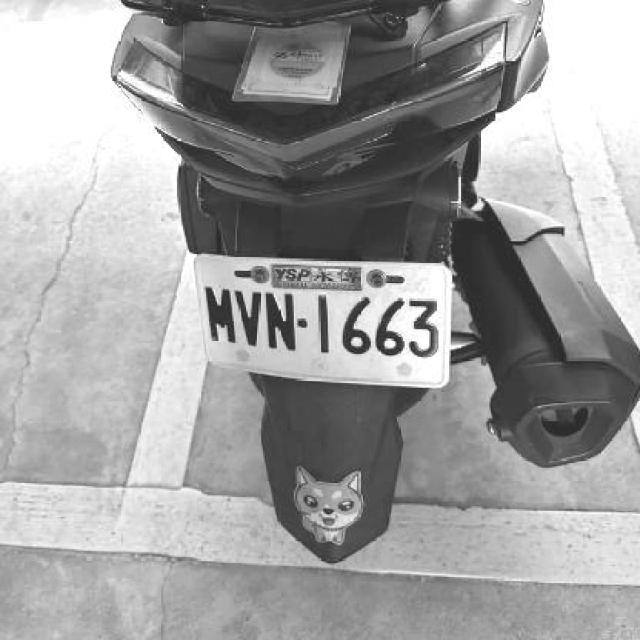-: (298, 314, 311, 326)
1: (317, 291, 334, 352)
3: (406, 297, 440, 361)
6: (372, 295, 408, 357), (337, 296, 372, 358)
M: (202, 284, 236, 342)
N: (264, 288, 298, 352)
V: (230, 287, 262, 348)
